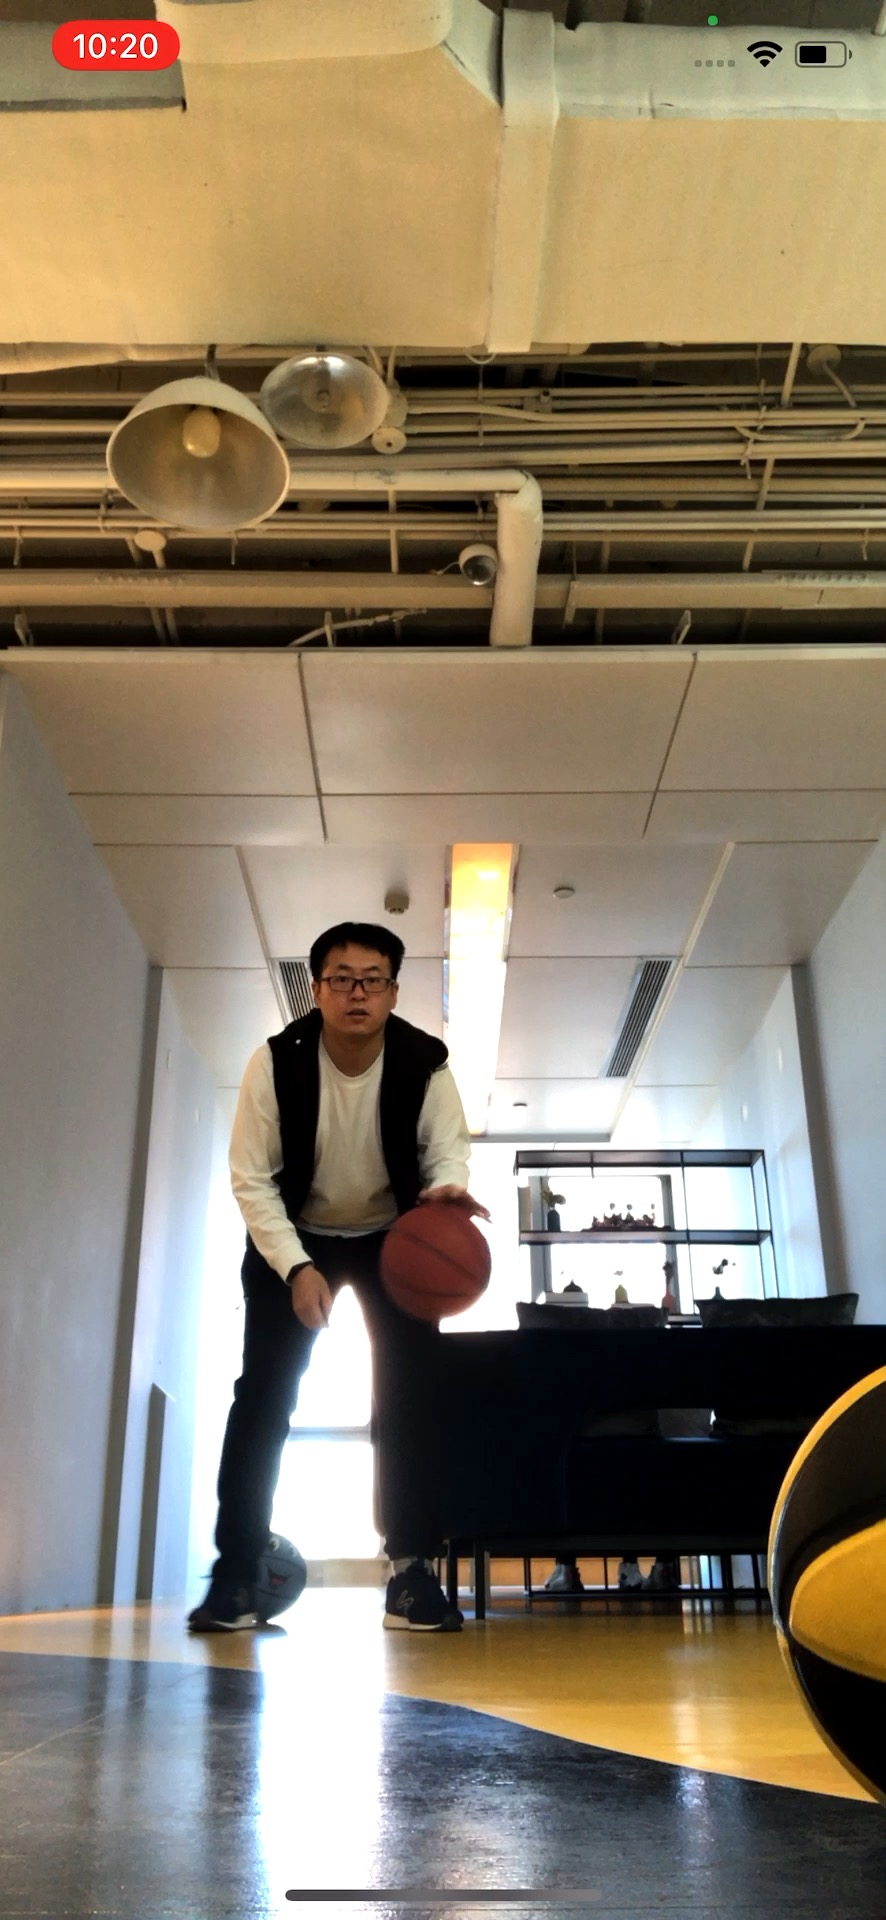ball: (759, 1365, 886, 1812), (378, 1206, 494, 1314)
